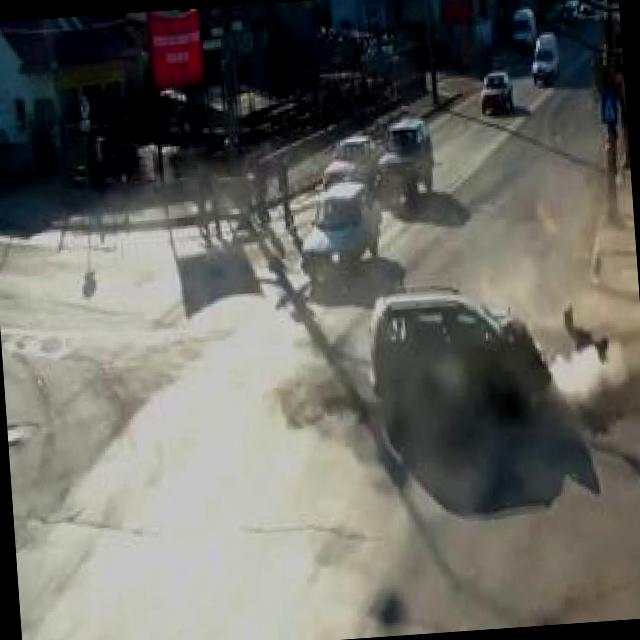car: (356, 278, 550, 438), (300, 180, 384, 278), (375, 115, 439, 206), (318, 134, 384, 194), (526, 28, 562, 88), (477, 68, 518, 116), (506, 2, 542, 50)
